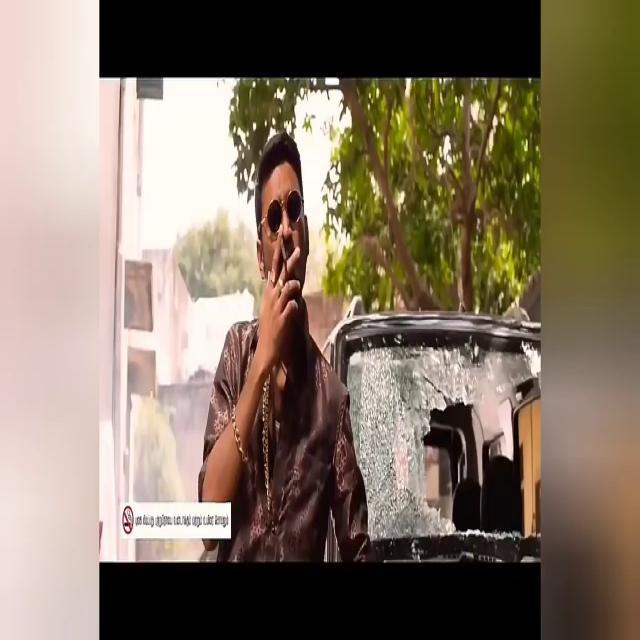smoking: (274, 144, 297, 358)
